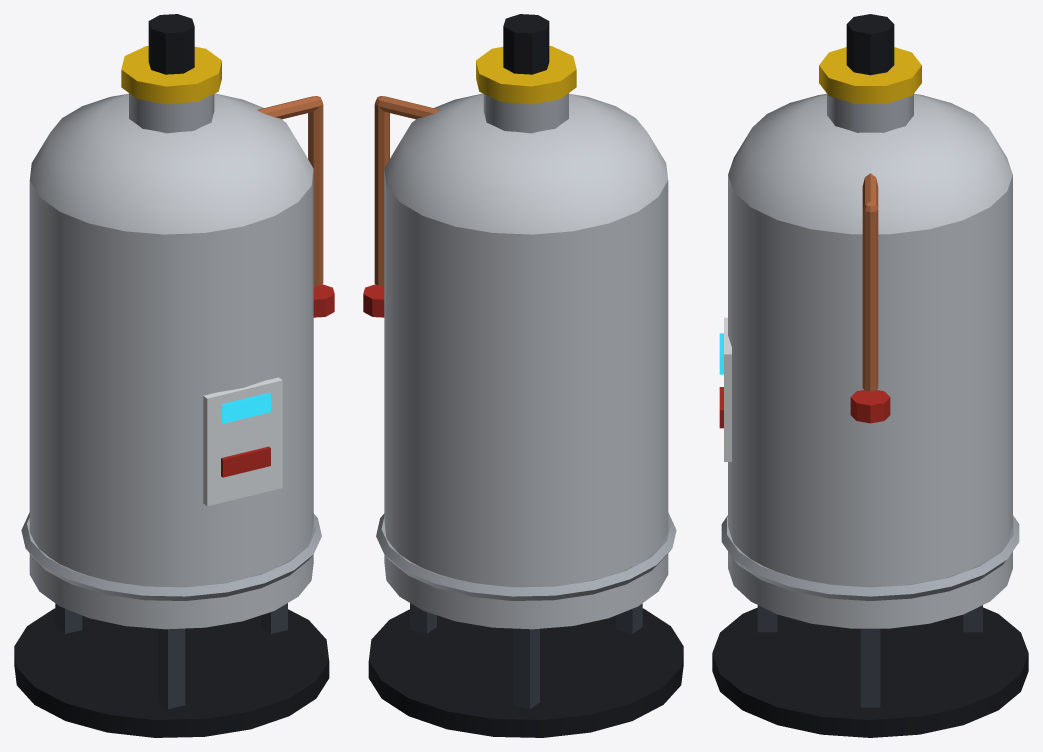
File: cylinder_cryo_dewar.glb
3 views of the same model, side by side, from view 1: azimuth 30°, elevation 25°; view 2: azimuth 150°, elevation 25°; view 3: azimuth 270°, elevation 25° (orthographic).
Parts seen in each view (by area): view 1: cylinder_cryo_dewar; view 2: cylinder_cryo_dewar; view 3: cylinder_cryo_dewar.
Boxes of the visible parts, box(x1,y1,x2,y2) form: cylinder_cryo_dewar: box(14, 14, 334, 737); cylinder_cryo_dewar: box(363, 14, 683, 737); cylinder_cryo_dewar: box(712, 14, 1028, 737).
Bounding box in the file's own units: 0.87 × 1.8 × 0.8.
